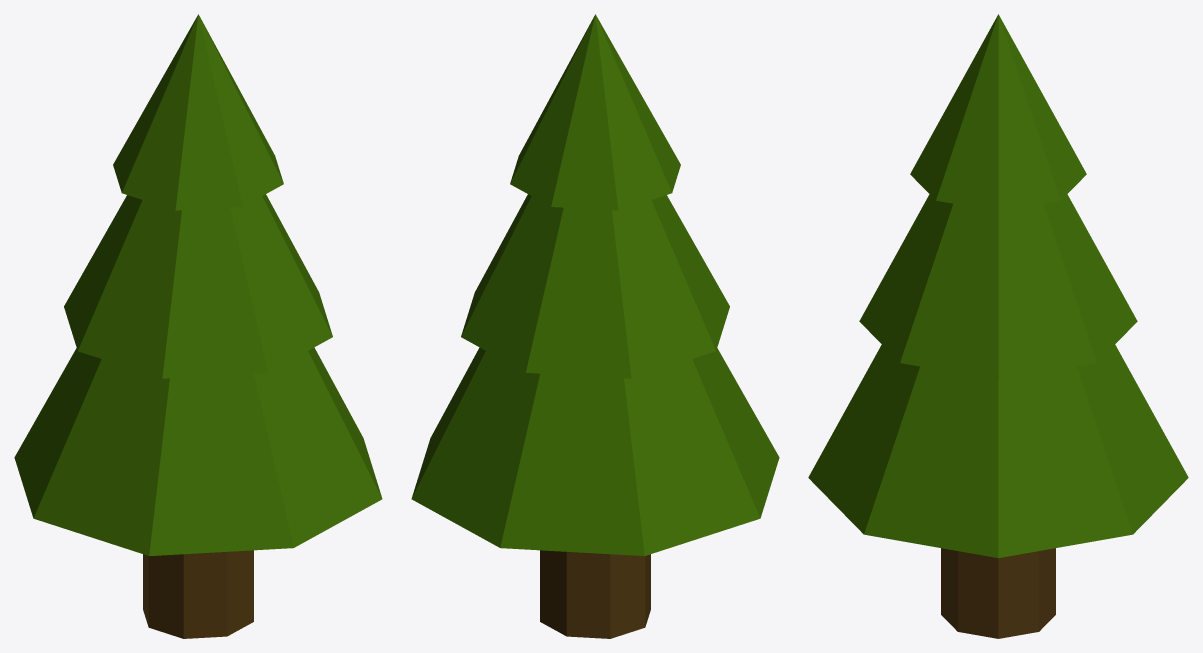
The model's file is tree.glb.
3 renders of one model, left to right at view 1: azimuth 30°, elevation 25°; view 2: azimuth 150°, elevation 25°; view 3: azimuth 270°, elevation 25°, orthographic.
Parts seen in each view (by area): view 1: Cone, Cone.001, Cone.002, Cylinder; view 2: Cone, Cone.001, Cone.002, Cylinder; view 3: Cone, Cone.001, Cone.002, Cylinder.
Boxes of the visible parts, left/top/right/bottom form: Cone: left=14, top=347, right=382, bottom=556; Cone.001: left=64, top=194, right=332, bottom=378; Cone.002: left=113, top=14, right=283, bottom=210; Cylinder: left=143, top=550, right=253, bottom=638; Cone: left=411, top=347, right=779, bottom=556; Cone.001: left=461, top=194, right=729, bottom=378; Cone.002: left=510, top=14, right=680, bottom=210; Cylinder: left=540, top=550, right=650, bottom=638; Cone: left=808, top=344, right=1188, bottom=557; Cone.001: left=859, top=194, right=1137, bottom=380; Cone.002: left=910, top=14, right=1086, bottom=211; Cylinder: left=941, top=548, right=1055, bottom=638.
Size of what is drawn, in the model's own units: 4.17 by 7.27 by 4.17.
